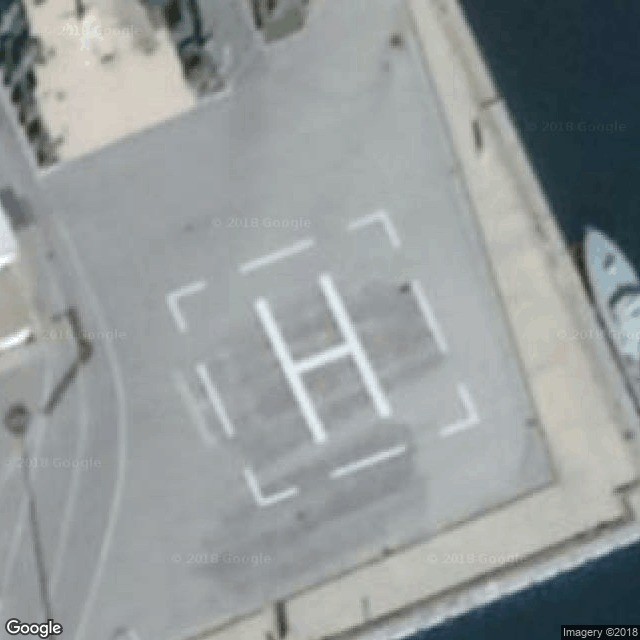heliport: (241, 276, 399, 448)
